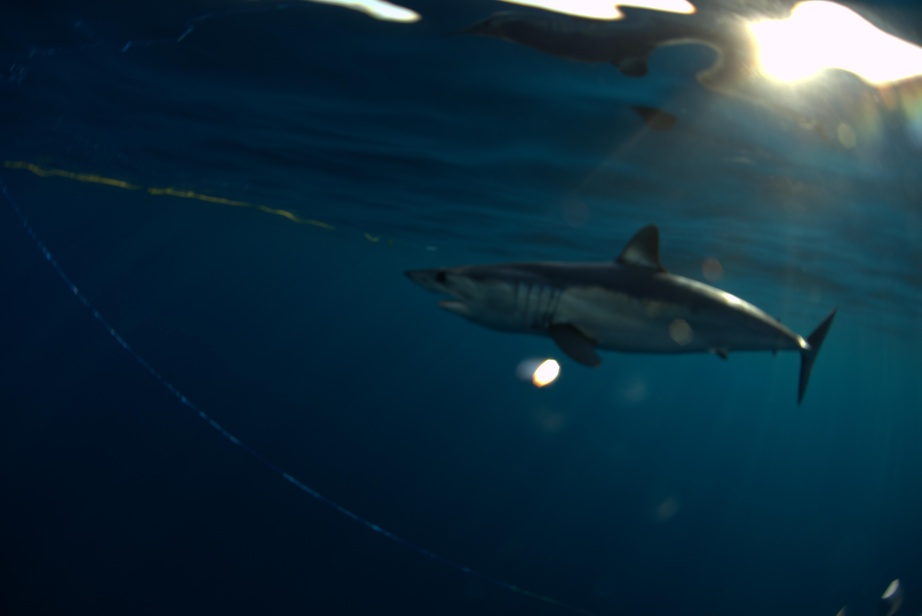Mako: (396, 217, 842, 418)
